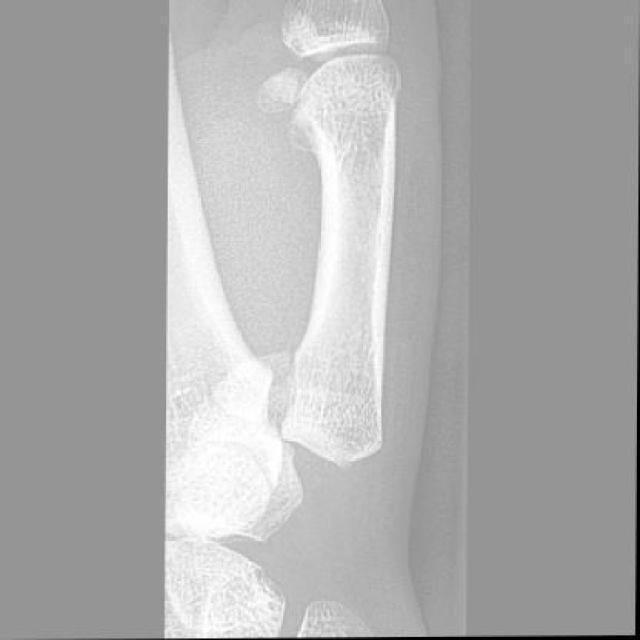Fracture: (225, 328, 351, 444)
